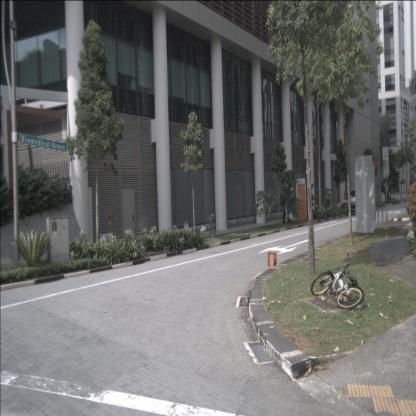cone: (268, 251, 276, 267)
